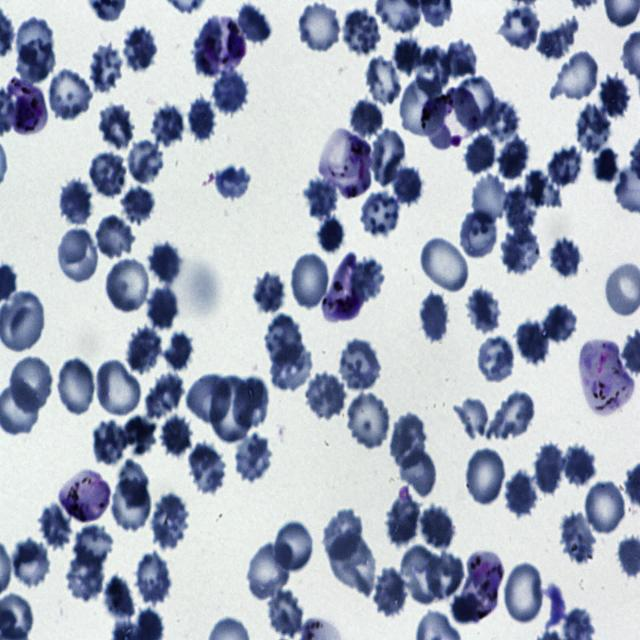difficult: (60, 469, 111, 525)
red blood cell: (400, 75, 448, 138), (94, 356, 142, 418), (246, 540, 294, 602), (329, 531, 376, 594), (210, 375, 254, 442), (503, 561, 547, 627), (345, 389, 392, 450), (418, 237, 469, 292), (104, 256, 151, 314), (8, 355, 54, 414), (56, 226, 100, 286), (47, 66, 94, 122), (551, 49, 601, 101), (398, 546, 442, 605), (466, 446, 508, 507), (452, 73, 496, 131), (186, 371, 232, 426), (585, 478, 628, 536), (56, 356, 96, 418), (302, 370, 348, 423), (337, 339, 383, 391), (269, 342, 315, 393), (10, 536, 52, 591), (487, 392, 534, 441), (298, 1, 342, 53), (274, 518, 316, 572), (148, 494, 188, 550), (186, 442, 227, 496), (368, 127, 406, 185), (389, 414, 428, 469), (559, 510, 598, 564), (66, 548, 105, 602), (498, 5, 542, 52), (322, 509, 365, 557), (112, 478, 150, 532), (387, 490, 422, 548), (290, 256, 328, 309), (120, 23, 160, 73), (341, 8, 382, 56), (476, 334, 516, 383), (210, 66, 249, 116), (575, 104, 614, 154), (94, 212, 136, 258), (234, 377, 270, 430), (366, 55, 402, 108), (233, 433, 271, 483), (456, 212, 498, 257), (415, 45, 452, 96), (88, 150, 128, 197), (146, 371, 185, 419), (400, 448, 437, 498), (262, 315, 303, 360), (538, 15, 579, 60), (14, 19, 54, 65), (16, 39, 56, 85), (361, 191, 400, 238), (419, 504, 457, 552), (503, 226, 541, 274), (426, 552, 464, 600), (135, 555, 170, 607), (88, 42, 122, 95), (125, 327, 163, 374), (472, 176, 510, 223), (503, 470, 539, 519), (126, 139, 164, 185), (523, 168, 564, 210), (250, 269, 288, 314), (533, 441, 563, 497), (515, 319, 550, 366), (92, 420, 127, 467), (419, 291, 450, 344), (38, 503, 72, 551), (74, 526, 114, 566), (268, 590, 302, 637), (504, 186, 538, 233), (374, 568, 407, 616), (118, 459, 150, 508), (350, 259, 384, 305), (148, 240, 182, 286), (484, 100, 521, 142), (58, 178, 91, 225), (302, 177, 338, 220), (467, 288, 502, 332), (563, 444, 597, 489), (237, 1, 271, 45), (119, 187, 155, 228), (99, 104, 134, 146), (550, 145, 584, 188), (544, 300, 577, 344), (160, 413, 193, 457), (214, 164, 253, 201), (598, 75, 631, 118), (349, 98, 384, 138), (442, 38, 477, 78), (147, 285, 178, 330), (465, 132, 497, 175), (498, 137, 530, 180), (150, 104, 184, 144), (550, 237, 582, 279), (124, 416, 158, 455), (105, 576, 135, 620), (392, 165, 423, 207), (188, 96, 216, 142), (165, 330, 194, 371), (316, 215, 346, 254), (392, 35, 422, 73)
trophozoite: (578, 339, 636, 414), (320, 129, 372, 200), (423, 88, 477, 150), (196, 15, 248, 71), (323, 251, 362, 324), (462, 552, 501, 618), (8, 78, 48, 136)
